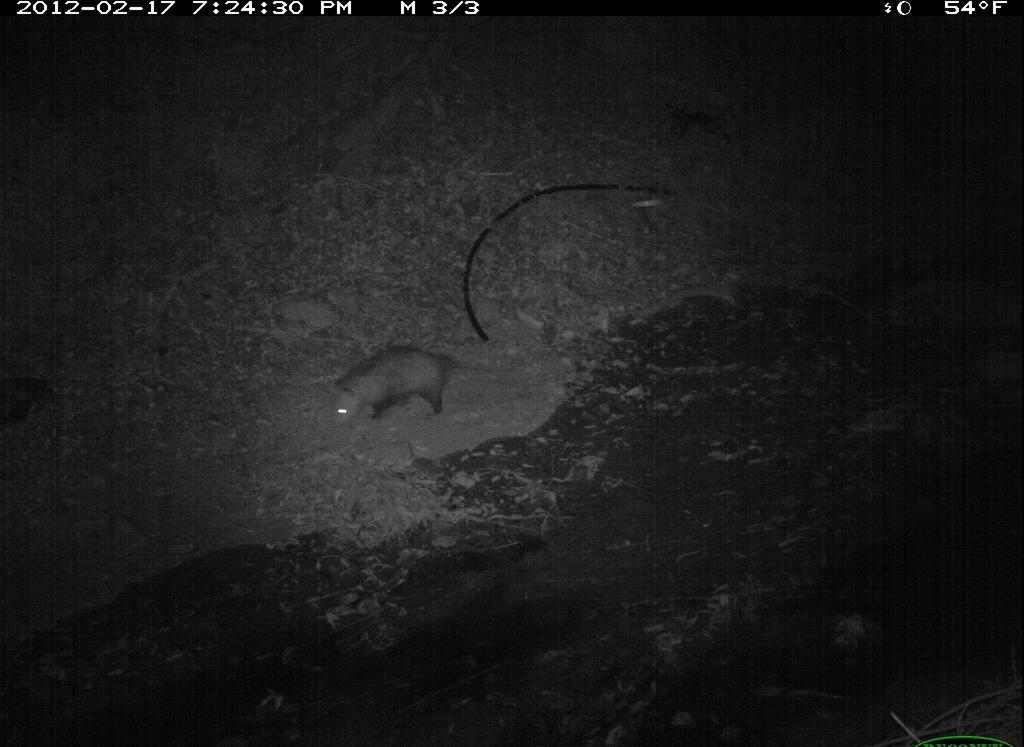opossum: (319, 314, 513, 434)
